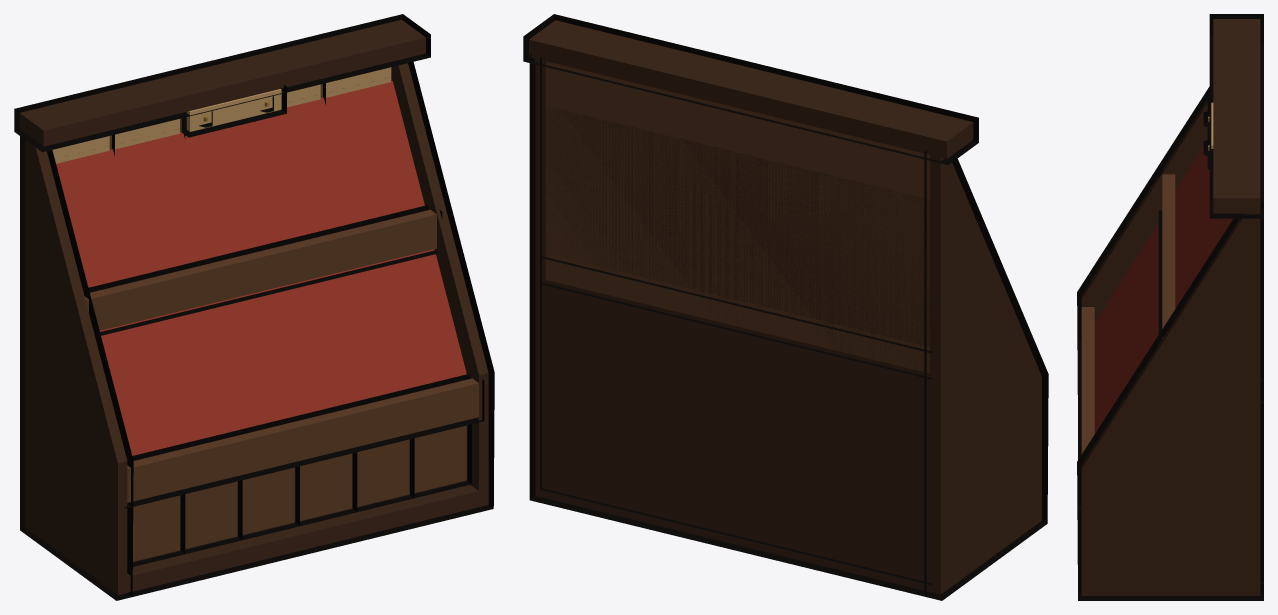
File: cardcase.glb
The picture shows the model from 3 angles, left to right: view 1: azimuth 30°, elevation 25°; view 2: azimuth 150°, elevation 25°; view 3: azimuth 270°, elevation 25°; orthographic projection. The views are drawn at different scales.
Visible parts, largest first — view 1: Prop_forge_cardcase; view 2: Prop_forge_cardcase; view 3: Prop_forge_cardcase.
Part boxes in pixels (<box>): Prop_forge_cardcase: <box>14,14,494,600</box>; Prop_forge_cardcase: <box>523,14,1048,600</box>; Prop_forge_cardcase: <box>1077,14,1263,600</box>.
Bounding box in the file's own units: 2.03 × 2.11 × 0.8793.
